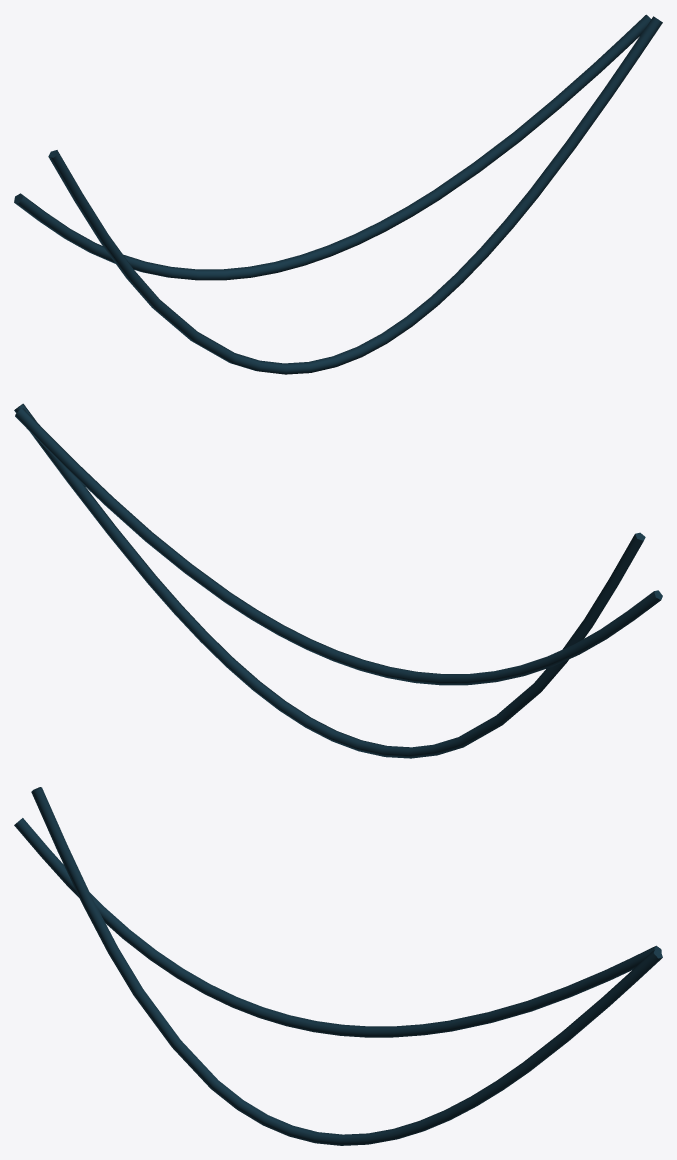
Rendered from CableHanging_Thick_01.glb.
The picture shows the model from 3 angles, top to bottom: view 1: azimuth 30°, elevation 25°; view 2: azimuth 150°, elevation 25°; view 3: azimuth 330°, elevation 25°; orthographic projection.
Visible parts, largest first — view 1: CableHanging_Thick_01.001; view 2: CableHanging_Thick_01.001; view 3: CableHanging_Thick_01.001.
Boxes of the visible parts, bbox=[...] form: CableHanging_Thick_01.001: bbox=[14, 14, 662, 374]; CableHanging_Thick_01.001: bbox=[14, 403, 662, 758]; CableHanging_Thick_01.001: bbox=[14, 787, 662, 1145].
Size of the model in its own units: 3.24 by 1.36 by 0.1812.
